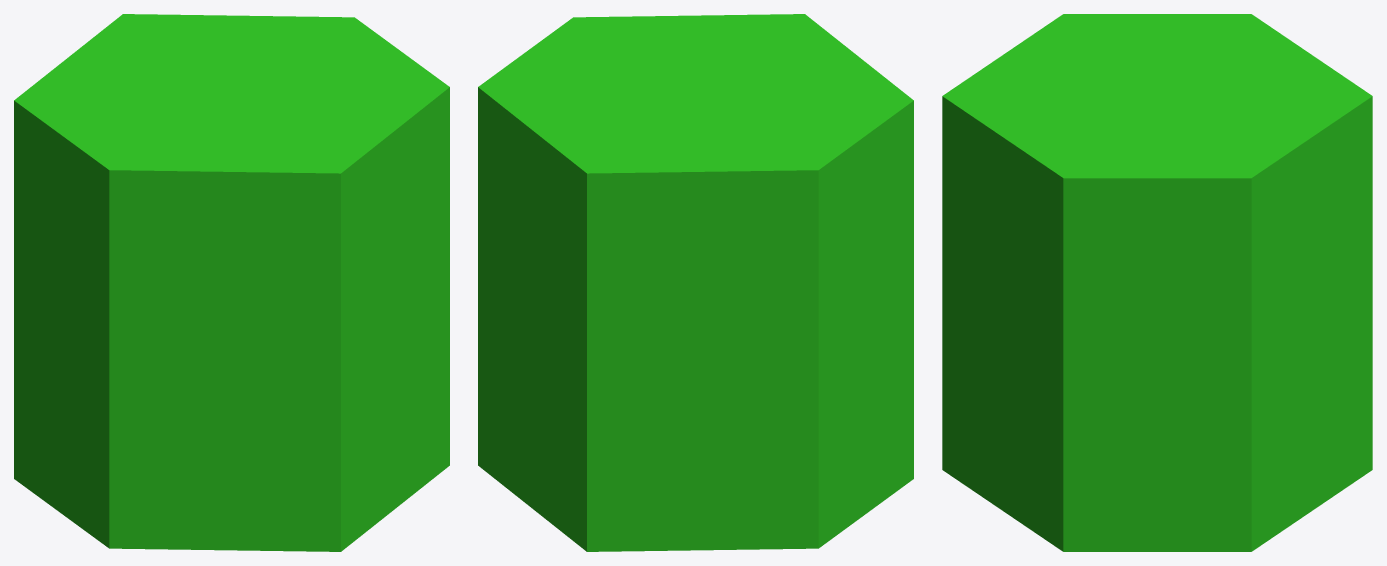
Rendered from NormalContent.fbx.
3 views of the same model, side by side, from view 1: azimuth 30°, elevation 25°; view 2: azimuth 150°, elevation 25°; view 3: azimuth 270°, elevation 25° (orthographic).
Parts seen in each view (by area): view 1: Model; view 2: Model; view 3: Model.
Boxes of the visible parts, <box> form: Model: <box>14,14,449,551</box>; Model: <box>478,14,913,551</box>; Model: <box>942,14,1372,551</box>.
Size of what is drawn, in the model's own units: 0.2901 by 0.308 by 0.3215.
